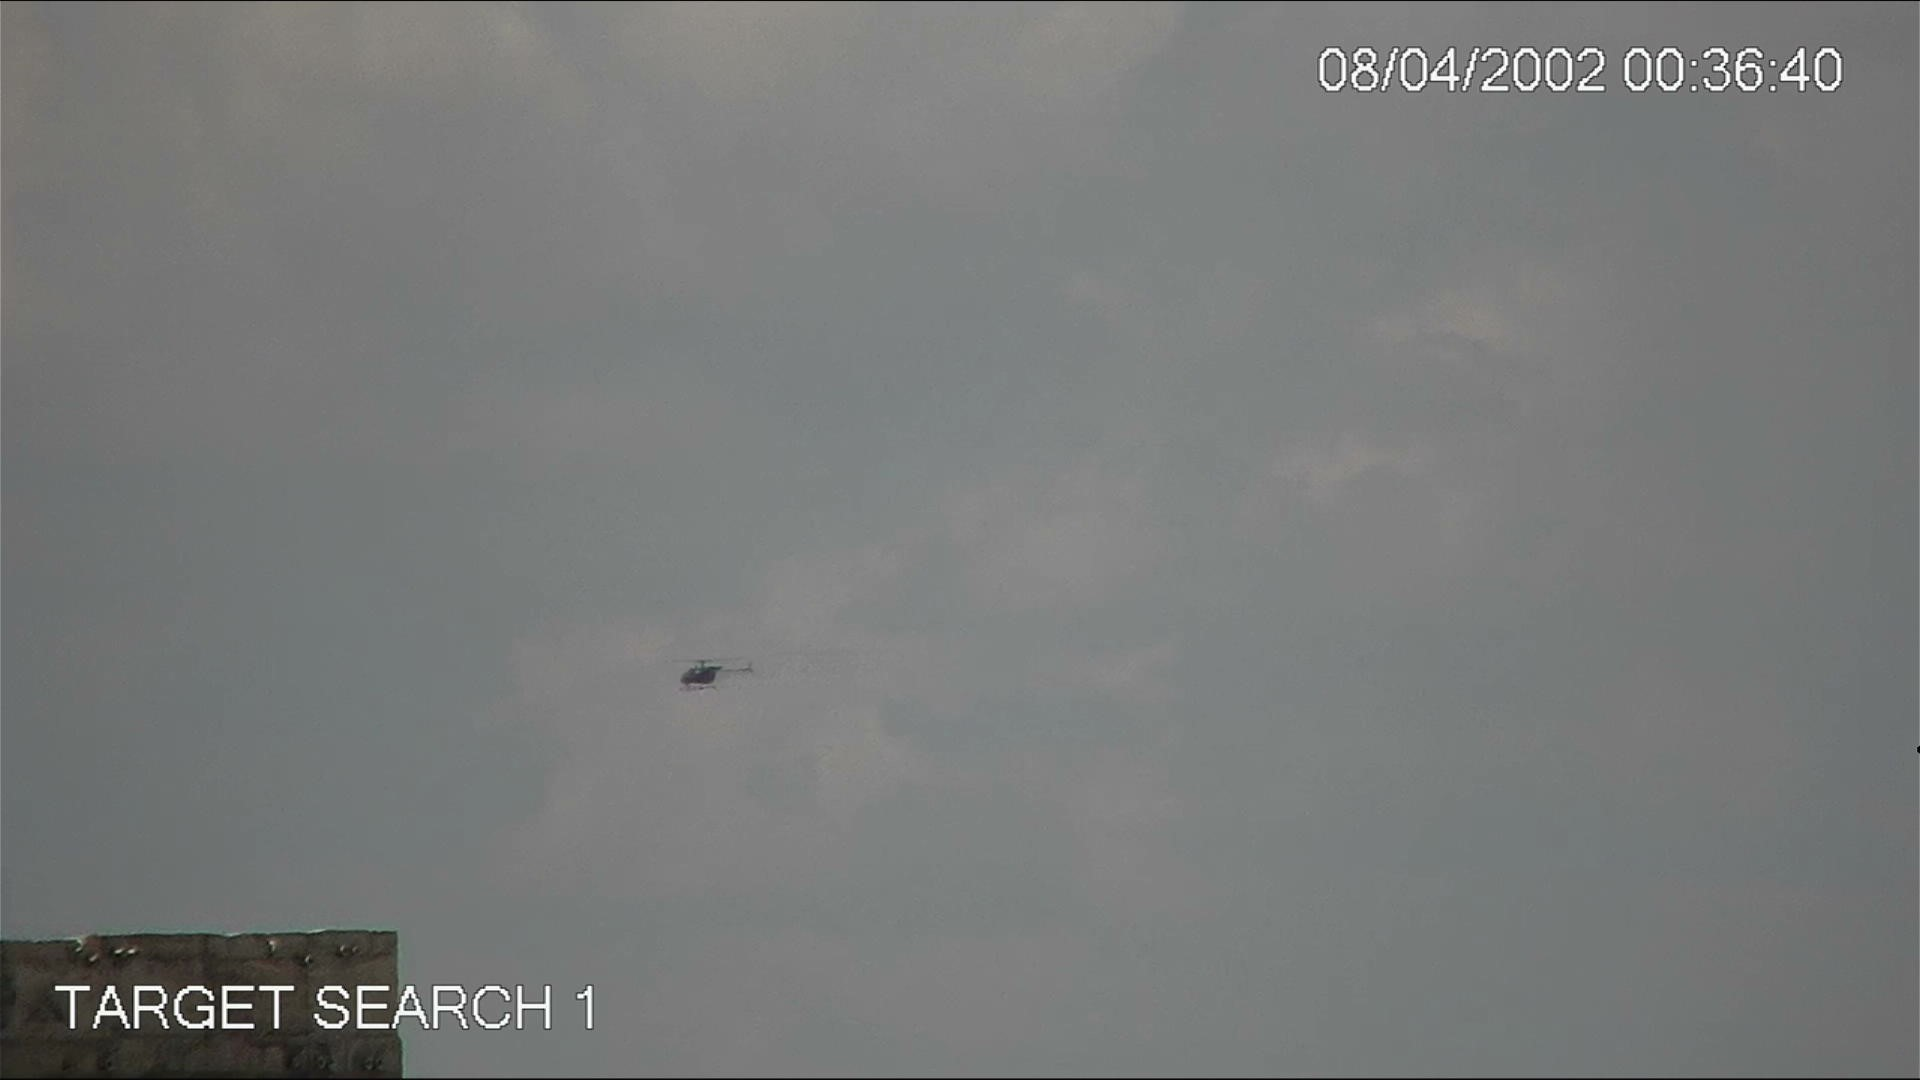SU_30: (674, 659, 762, 695)
